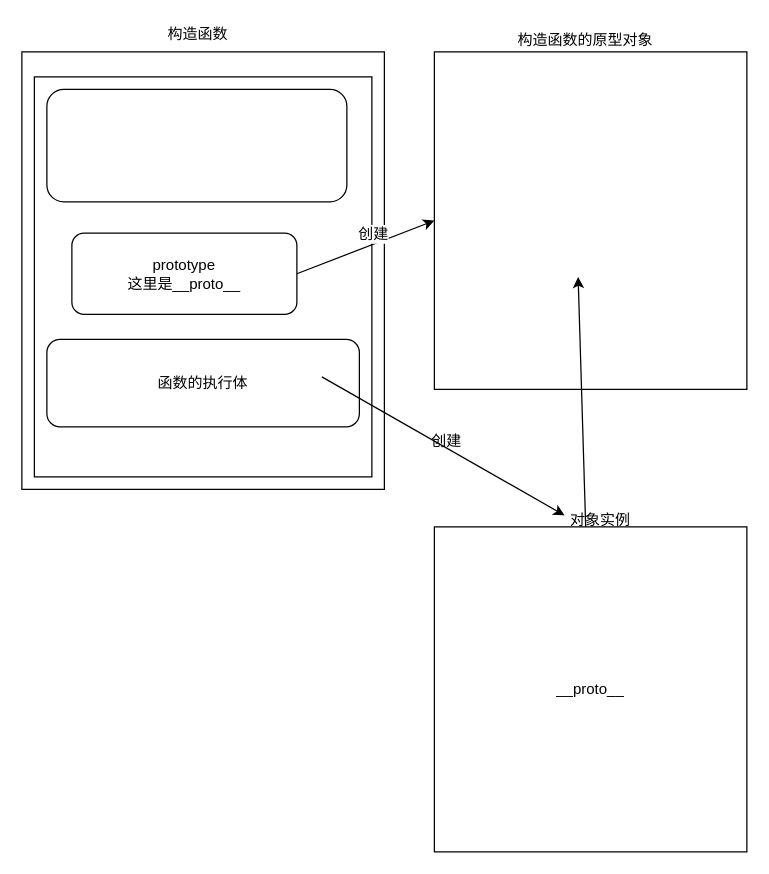
Some shapes in this 769 by 874 pixel diagram are drawn without their labels. The centre of each missing label's shape, as x and y in pixels:
"parentScope 父级作用于" goes at (x=196, y=145).
"函数的原型对象 prototype 这里是显示原型对象" goes at (x=590, y=220).
